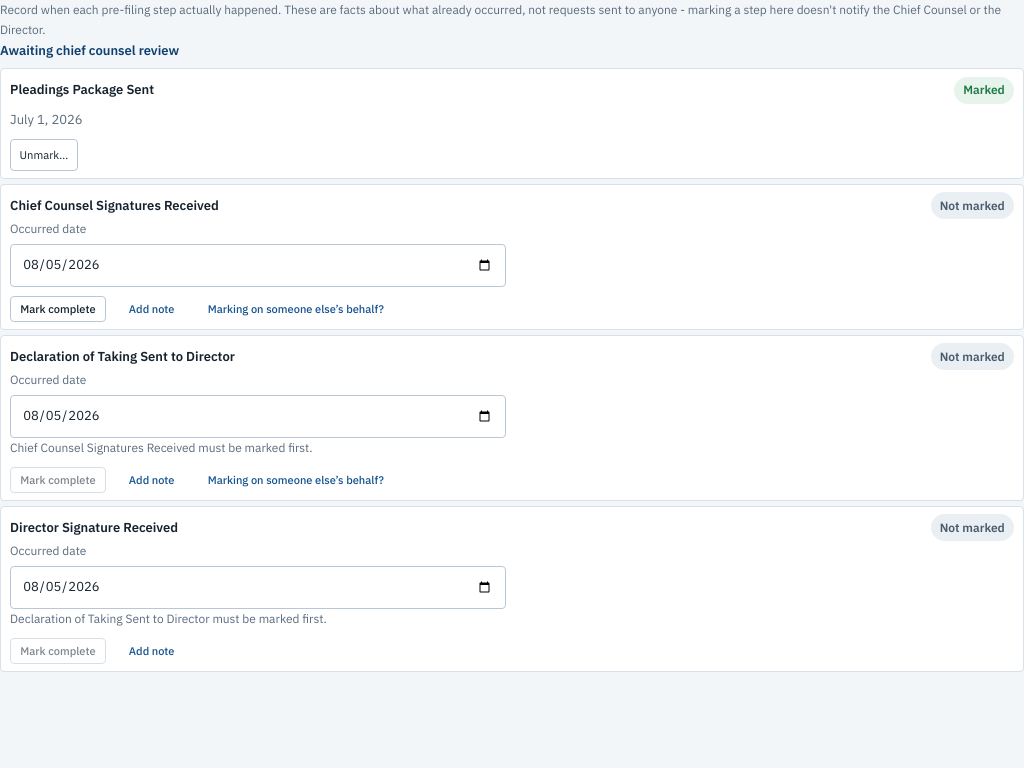
it: PreFilingMilestonesPanel › requires a non-blank reason before Confirm Unmark is enabled
This screenshot has width=1024, height=768.
Expected: the text "Marked" is shown, [954,77,1014,104]
Step 1. Click the button "Unmark…" → (44, 155), box [10,139,78,170]
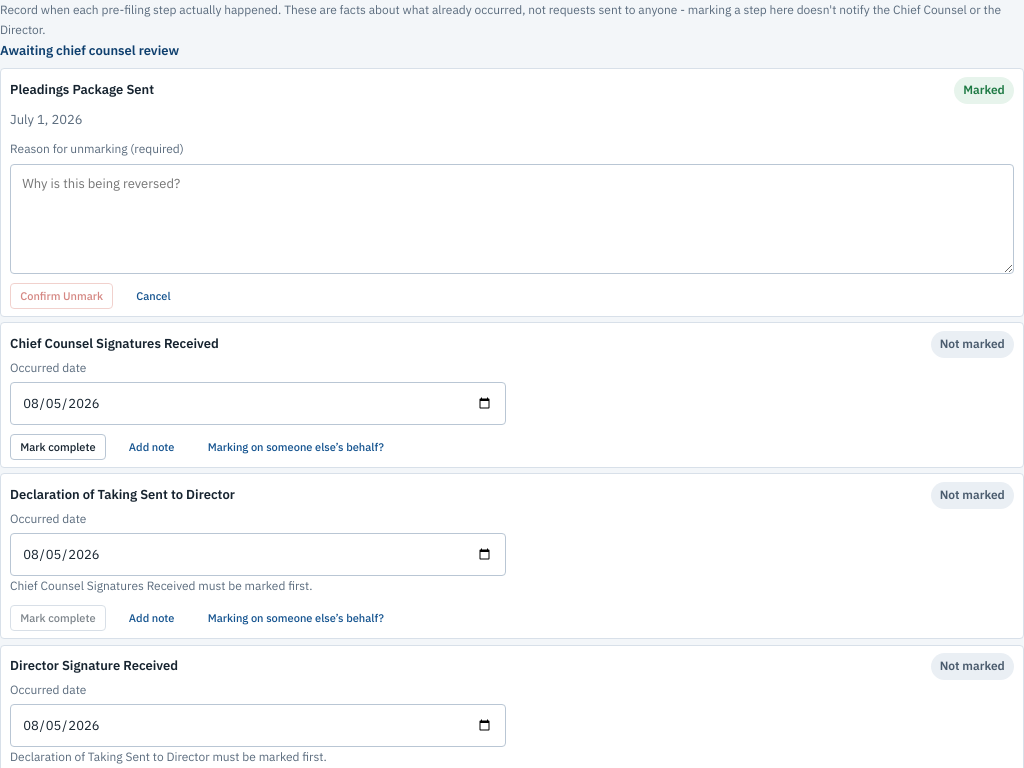
Expected: the button "Confirm Unmark" is disabled, [10,283,113,309]
Step 2. Type "Sent the wrong version." into the text box with placeholder "Why is this being reversed?" → (512, 219), box [10,164,1014,274]
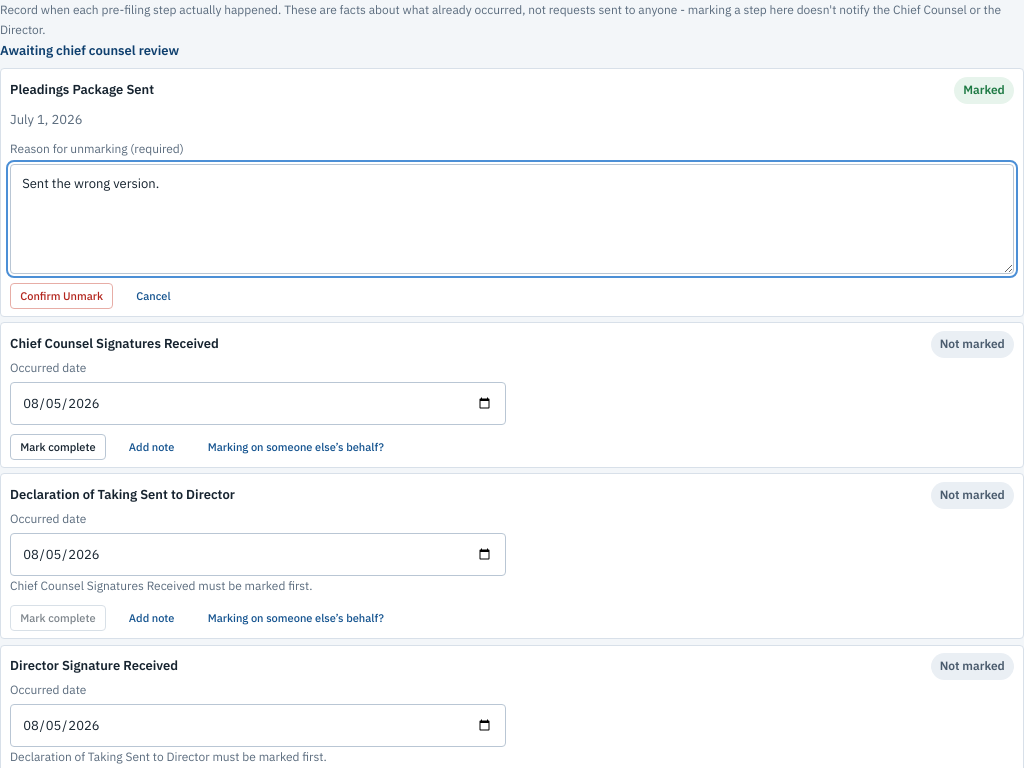
Expected: the button "Confirm Unmark" is enabled, [10,283,113,309]
